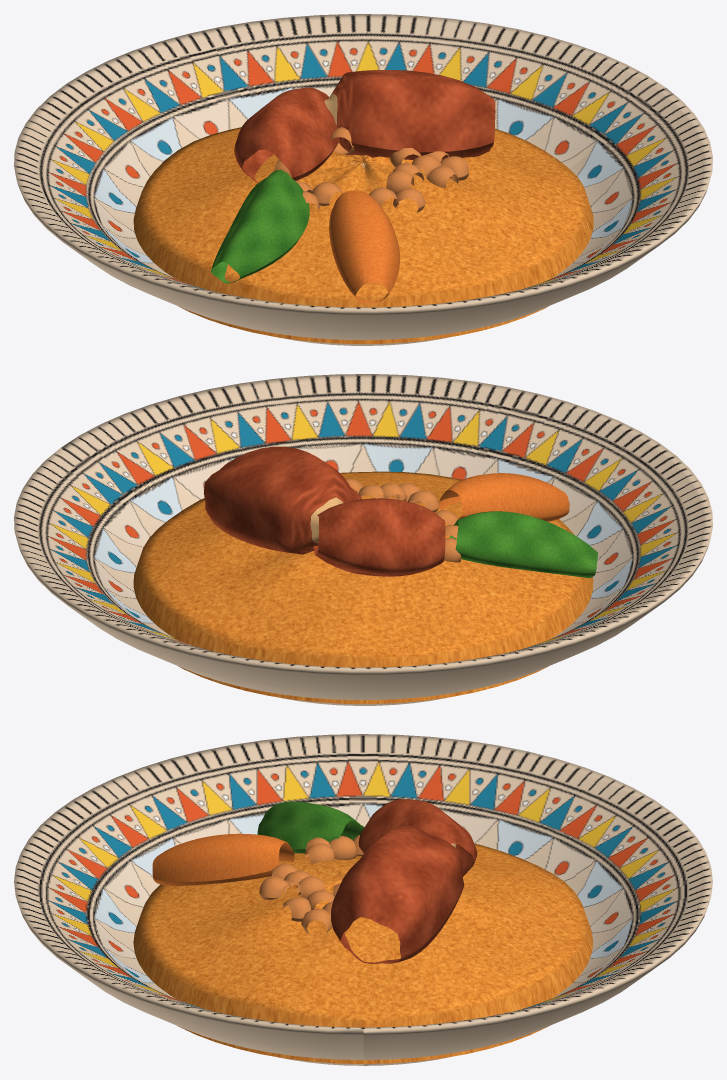
Rendered from Couscous_Plat_060pct.fbx.
3 renders of one model, top to bottom at view 1: azimuth 30°, elevation 25°; view 2: azimuth 150°, elevation 25°; view 3: azimuth 270°, elevation 25°, orthographic.
Visible parts, largest first — view 1: 00_Plate_Tebsi_Ceramic, 01_Couscous_Semolina_Mound, 02_Meat_Lamb_Shank_Main, 03_Meat_Braised_Left, 06_Veg_Green_Pepper_Felfel, 07_Veg_Carrot_FrontLeft, 05_Chickpeas_Cluster; view 2: 00_Plate_Tebsi_Ceramic, 01_Couscous_Semolina_Mound, 02_Meat_Lamb_Shank_Main, 03_Meat_Braised_Left, 06_Veg_Green_Pepper_Felfel, 07_Veg_Carrot_FrontLeft, 05_Chickpeas_Cluster; view 3: 00_Plate_Tebsi_Ceramic, 01_Couscous_Semolina_Mound, 02_Meat_Lamb_Shank_Main, 07_Veg_Carrot_FrontLeft, 05_Chickpeas_Cluster, 06_Veg_Green_Pepper_Felfel, 03_Meat_Braised_Left.
Part boxes in pixels (bbox=[...]): 00_Plate_Tebsi_Ceramic: bbox=[14, 14, 712, 345]; 01_Couscous_Semolina_Mound: bbox=[133, 127, 593, 343]; 02_Meat_Lamb_Shank_Main: bbox=[324, 70, 495, 164]; 03_Meat_Braised_Left: bbox=[234, 87, 339, 183]; 06_Veg_Green_Pepper_Felfel: bbox=[211, 169, 309, 283]; 07_Veg_Carrot_FrontLeft: bbox=[329, 190, 399, 302]; 05_Chickpeas_Cluster: bbox=[274, 127, 468, 212]; 00_Plate_Tebsi_Ceramic: bbox=[14, 374, 712, 705]; 01_Couscous_Semolina_Mound: bbox=[133, 471, 593, 703]; 02_Meat_Lamb_Shank_Main: bbox=[204, 446, 361, 554]; 03_Meat_Braised_Left: bbox=[313, 498, 445, 576]; 06_Veg_Green_Pepper_Felfel: bbox=[449, 511, 597, 577]; 07_Veg_Carrot_FrontLeft: bbox=[439, 473, 569, 521]; 05_Chickpeas_Cluster: bbox=[345, 478, 460, 562]; 00_Plate_Tebsi_Ceramic: bbox=[14, 734, 712, 1065]; 01_Couscous_Semolina_Mound: bbox=[133, 843, 592, 1063]; 02_Meat_Lamb_Shank_Main: bbox=[331, 824, 464, 963]; 07_Veg_Carrot_FrontLeft: bbox=[152, 833, 294, 885]; 05_Chickpeas_Cluster: bbox=[259, 835, 363, 933]; 06_Veg_Green_Pepper_Felfel: bbox=[257, 801, 364, 853]; 03_Meat_Braised_Left: bbox=[358, 799, 477, 876].
Bounding box in the file's own units: 32 × 8.46 × 32.
